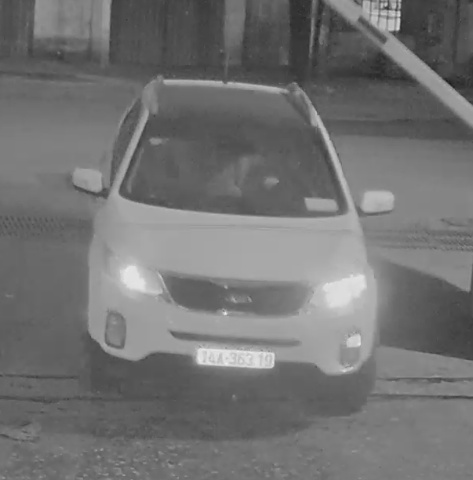vehicle plate: (182, 340, 281, 373)
